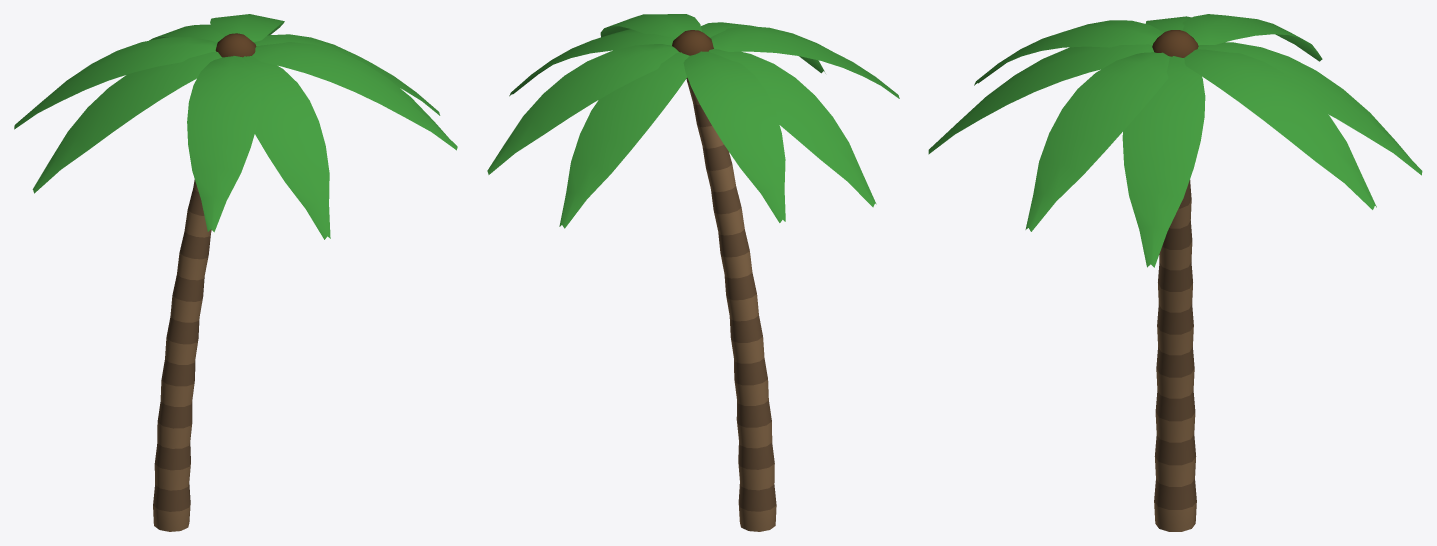
Rendered from palm.glb.
3 renders of one model, left to right at view 1: azimuth 30°, elevation 25°; view 2: azimuth 150°, elevation 25°; view 3: azimuth 270°, elevation 25°, orthographic. The views are drawn at different scales.
Visible parts, largest first — view 1: Palm_Mesh; view 2: Palm_Mesh; view 3: Palm_Mesh.
Boxes of the visible parts, x1,y1,x2,y2 form: Palm_Mesh: (14, 14, 457, 531); Palm_Mesh: (487, 14, 899, 531); Palm_Mesh: (928, 14, 1422, 531).
Size of the model in its own units: 5.38 by 6.33 by 5.38.
